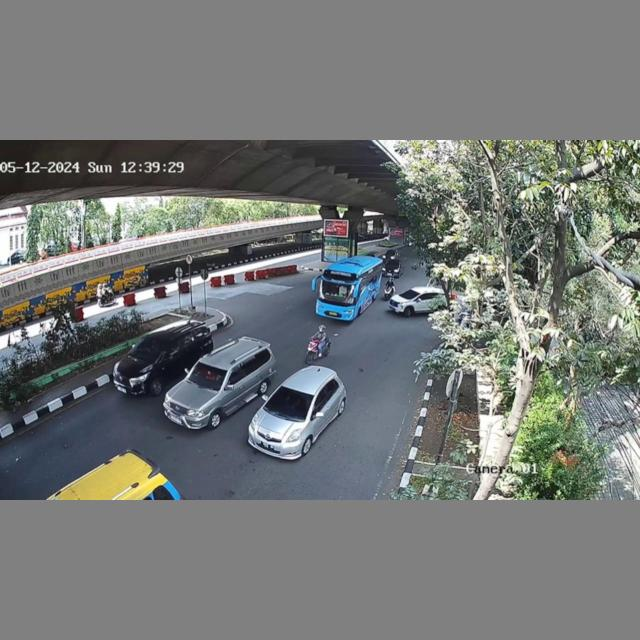windshield: (265, 386, 315, 420), (187, 359, 228, 392), (128, 337, 164, 363)
